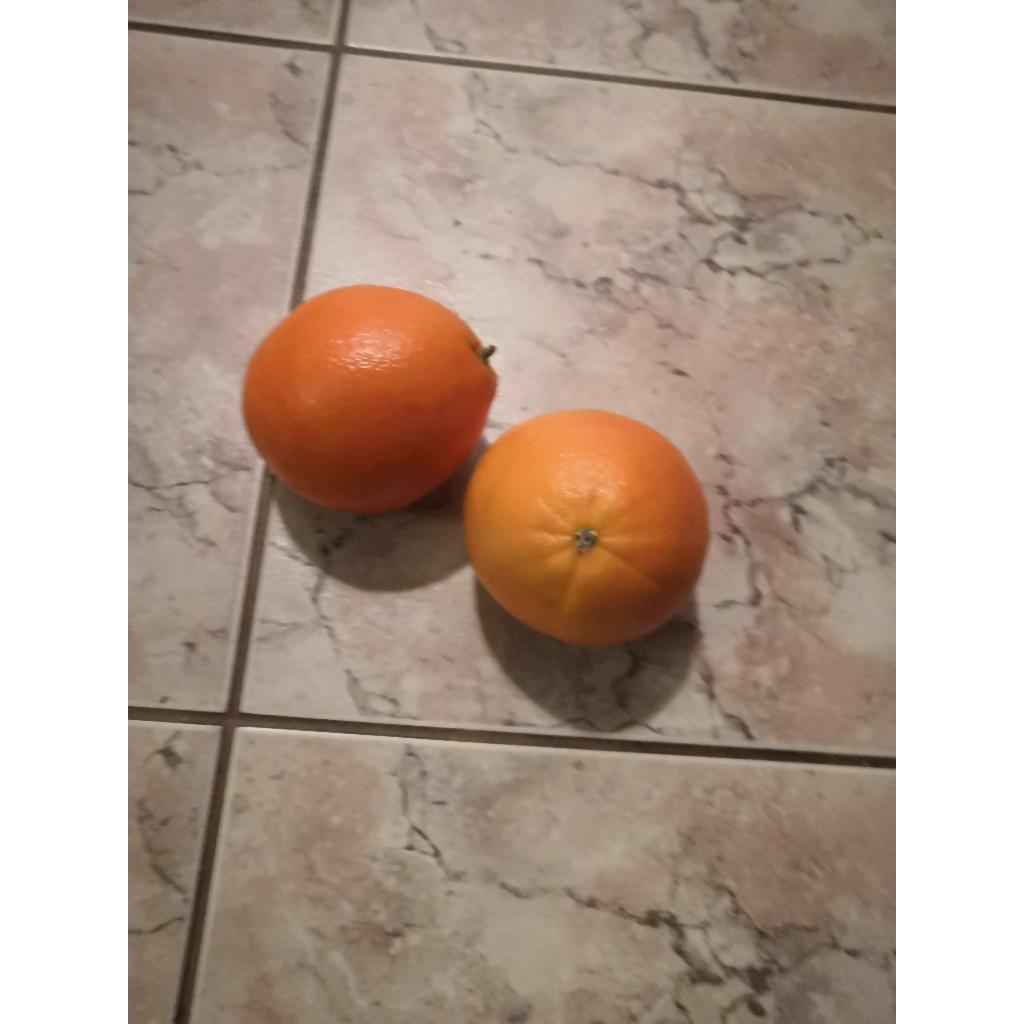orange: (242, 286, 496, 514), (464, 410, 708, 646)
